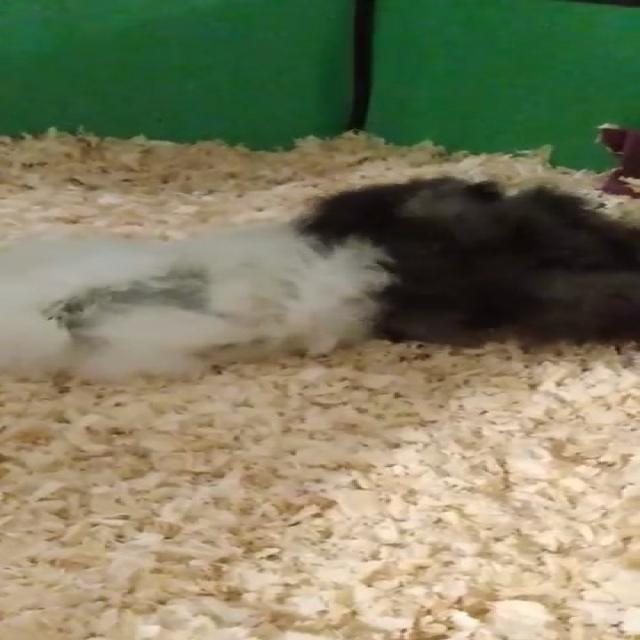allo preening: (7, 176, 637, 364)
